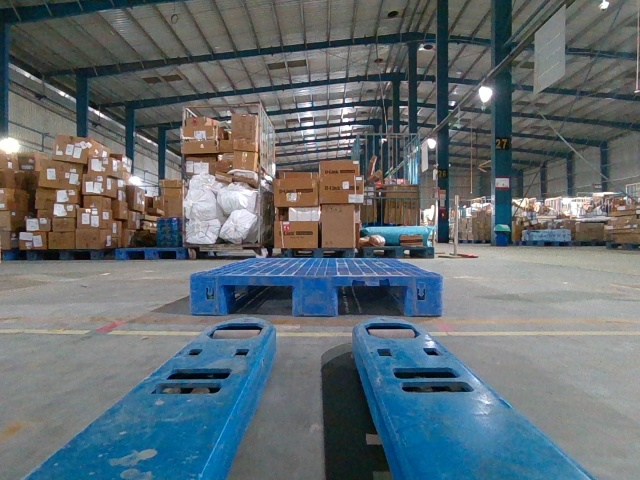block: (289, 270, 338, 317), (404, 273, 443, 316), (188, 273, 225, 318)
front: (191, 274, 443, 317)
hole pallet: (218, 281, 296, 316), (335, 282, 412, 315)
